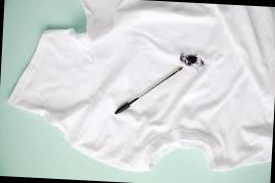ink: (183, 56, 197, 65)
